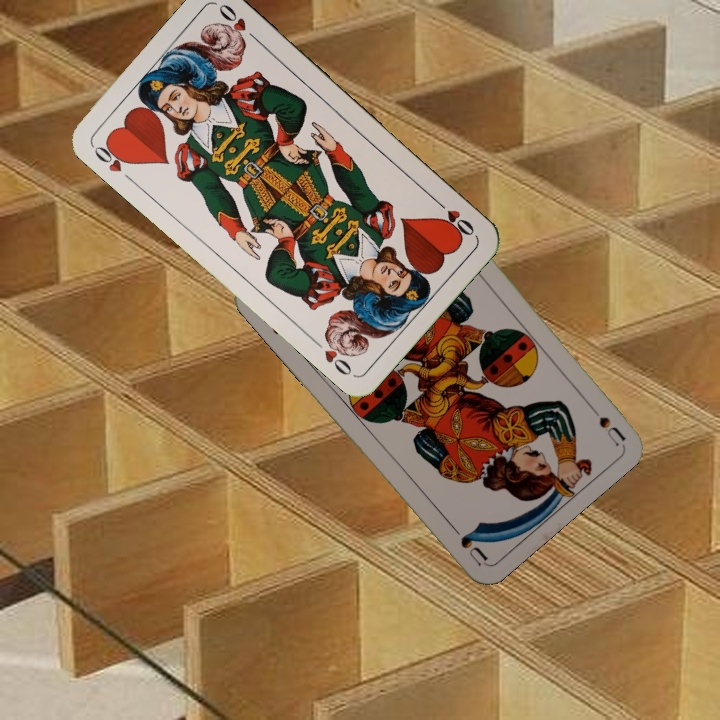HO: (429, 194, 478, 239), (88, 136, 136, 175)
SU: (580, 395, 627, 448)
